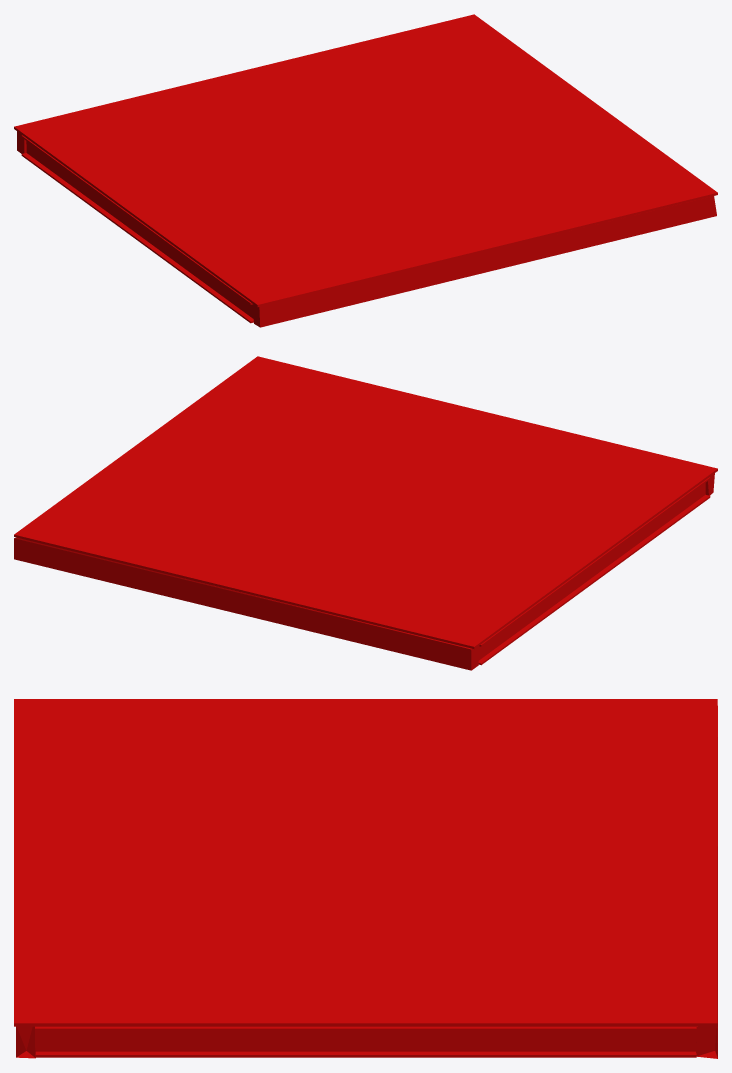
3 renders of one model, top to bottom at view 1: azimuth 30°, elevation 25°; view 2: azimuth 150°, elevation 25°; view 3: azimuth 270°, elevation 25°, orthographic. The views are drawn at different scales.
Parts seen in each view (by area): view 1: Mesh; view 2: Mesh; view 3: Mesh.
Boxes of the visible parts, x1,y1,x2,y2 form: Mesh: [14, 14, 717, 327]; Mesh: [14, 356, 717, 670]; Mesh: [14, 699, 717, 1058].
Size of the model in its own units: 6 by 0.3079 by 5.5.
